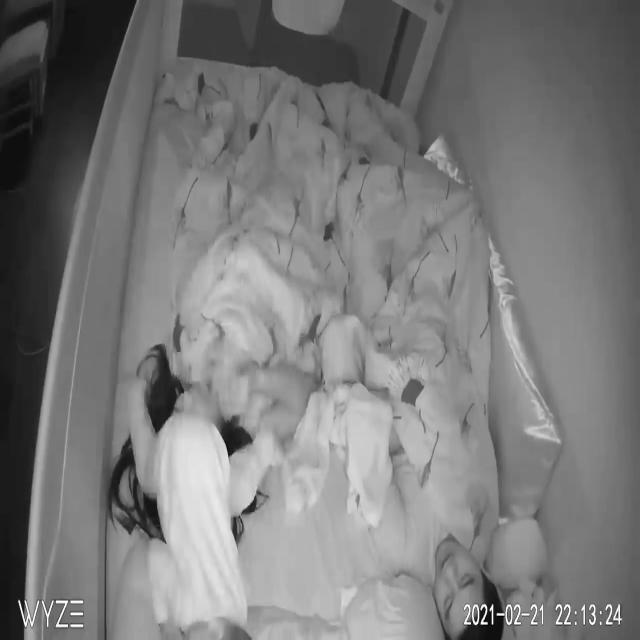baby: (129, 370, 247, 634)
